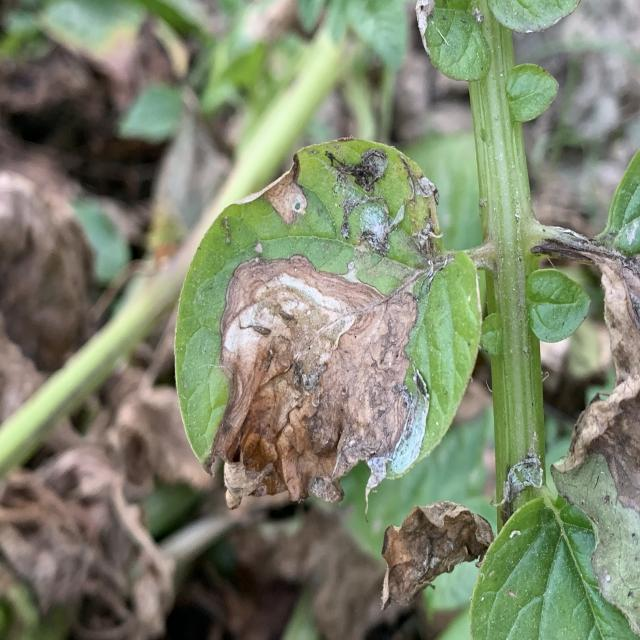lateblight: (210, 255, 429, 507), (309, 140, 442, 268), (235, 155, 308, 225)
